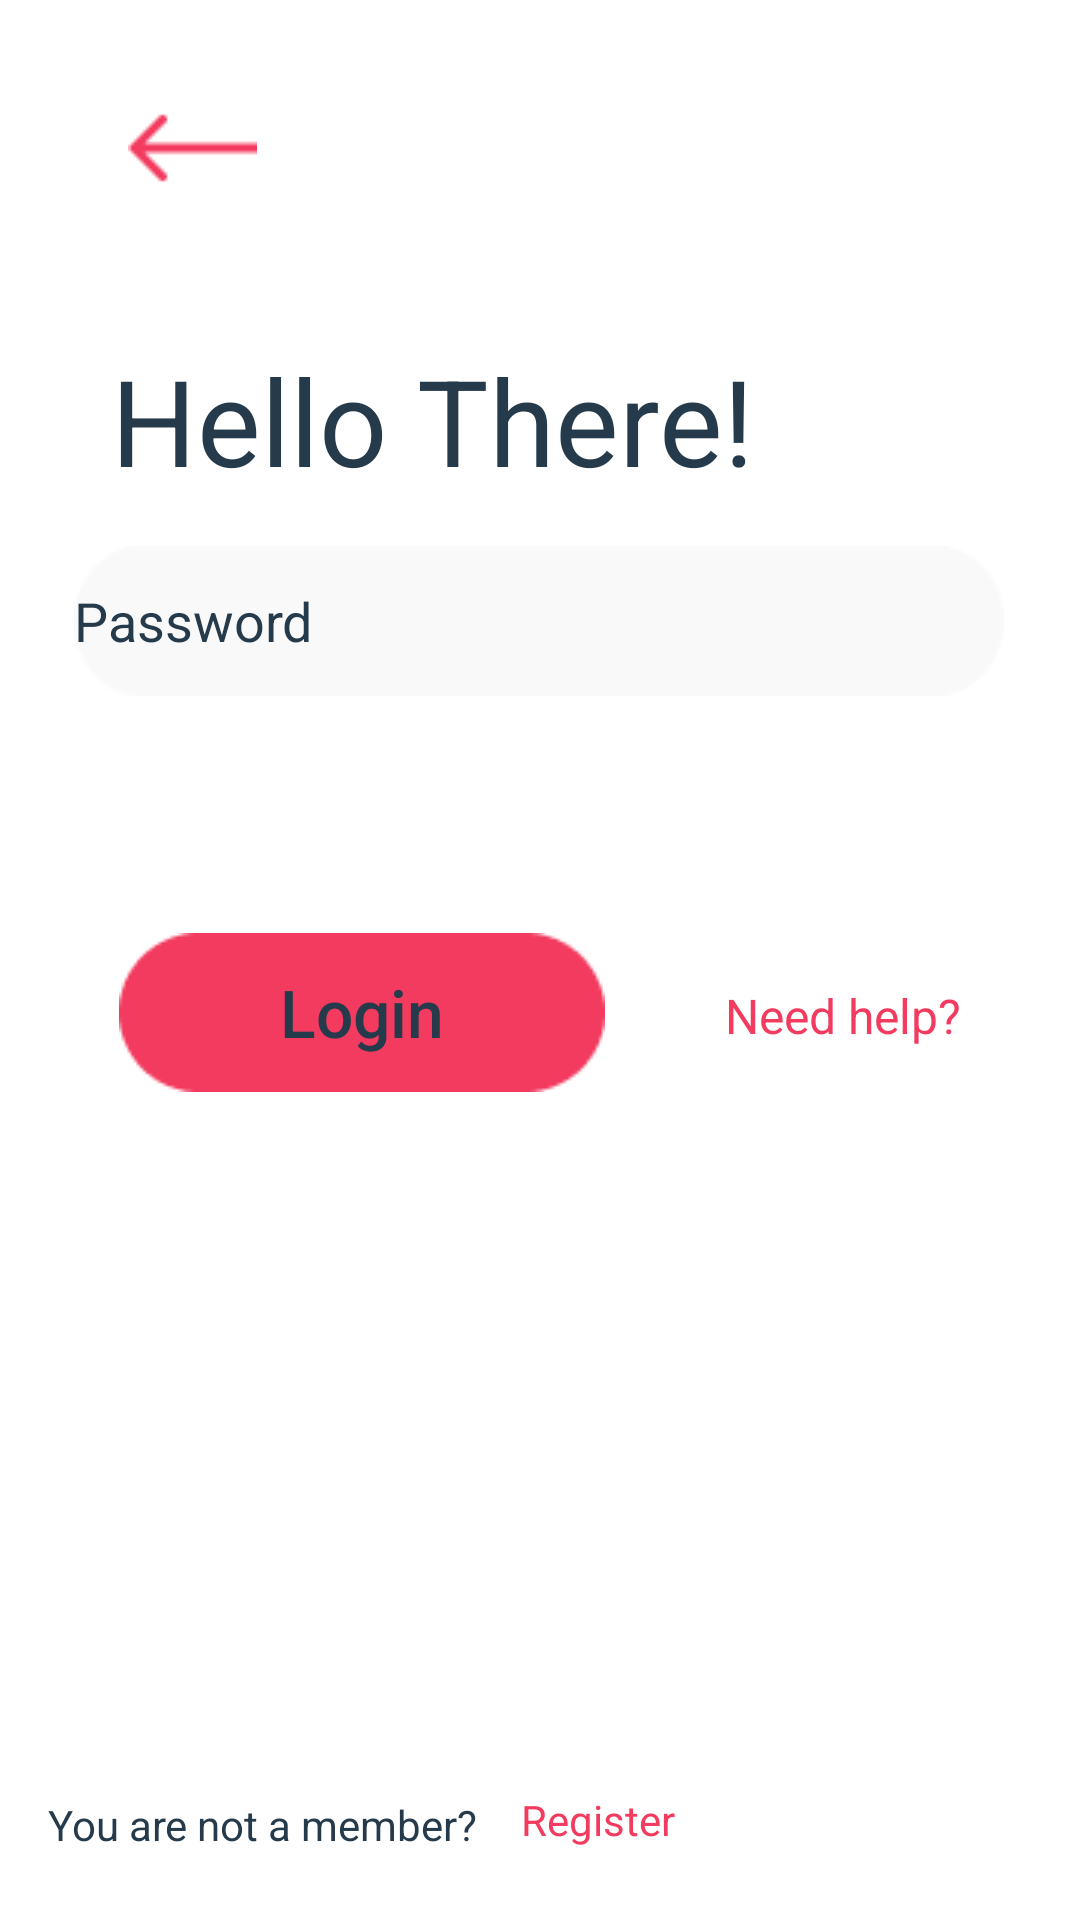

Icons on this 1080 x 1920 Android screen, each with its box as Rect(x1, y1, x2, y2):
arrow: Rect(128, 114, 257, 182)
